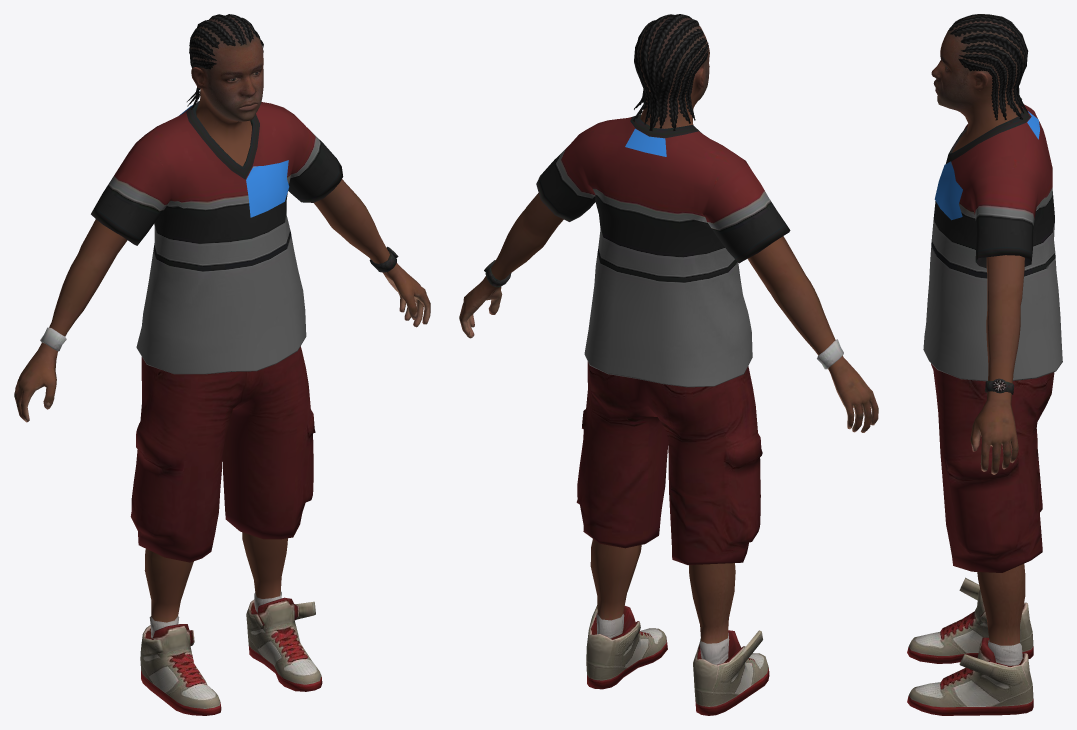
The model's file is ped-stbla.glb.
3 renders of one model, left to right at view 1: azimuth 30°, elevation 25°; view 2: azimuth 150°, elevation 25°; view 3: azimuth 270°, elevation 25°, orthographic.
Bounding box in the file's own units: 1.19 × 1.83 × 0.3882.
5 materials, 5 textured.
